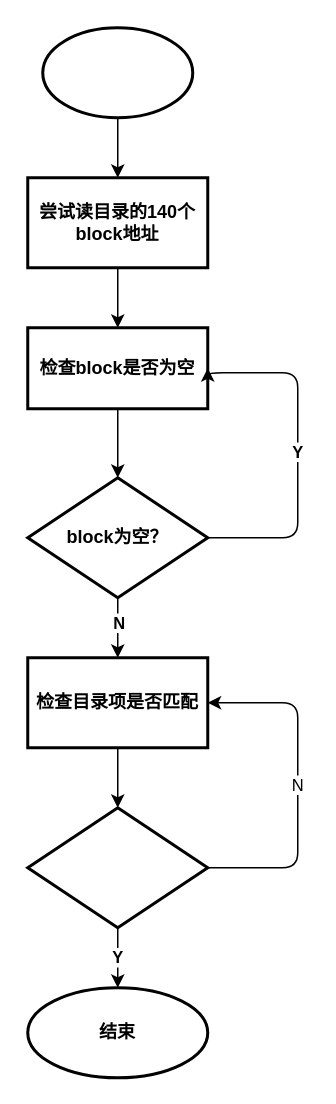
Image size: 336x1104. Some labels were removed from this diagram. The shapes that lost their labels are listed below. From the top down, each one's centre as x and y in pixels, then its label:
At point (117, 72): "开始".
At point (117, 867): "目录项name匹配？".
